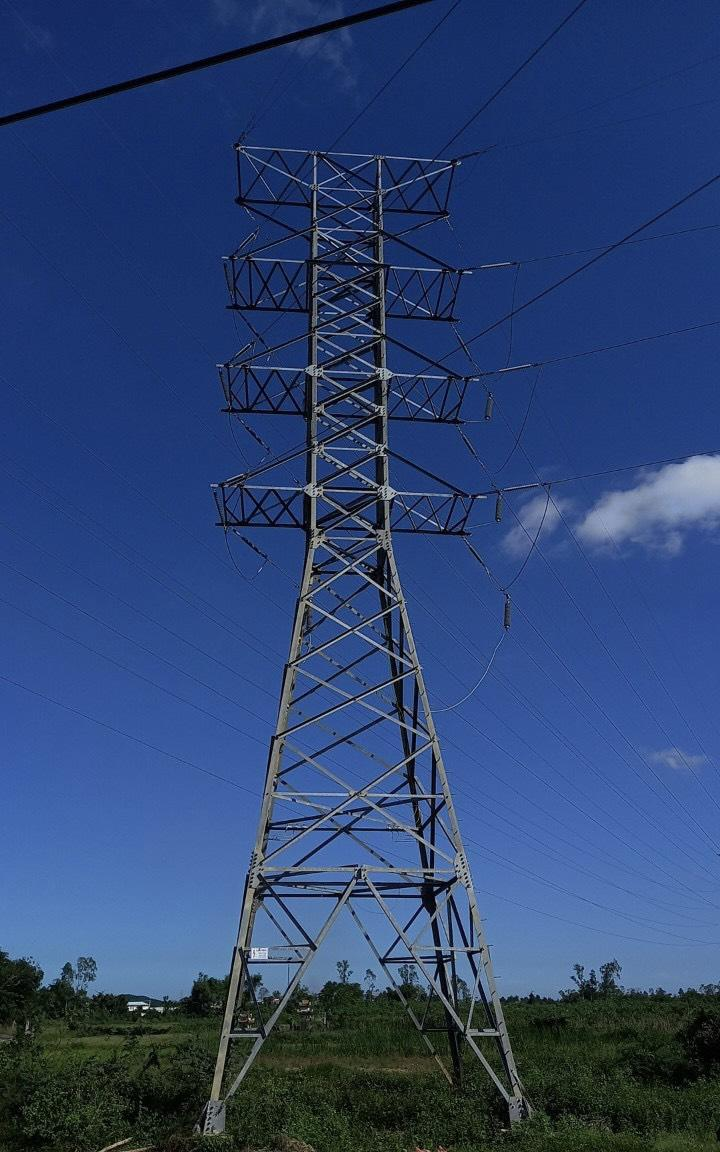power_tower: (237, 137, 517, 1115)
